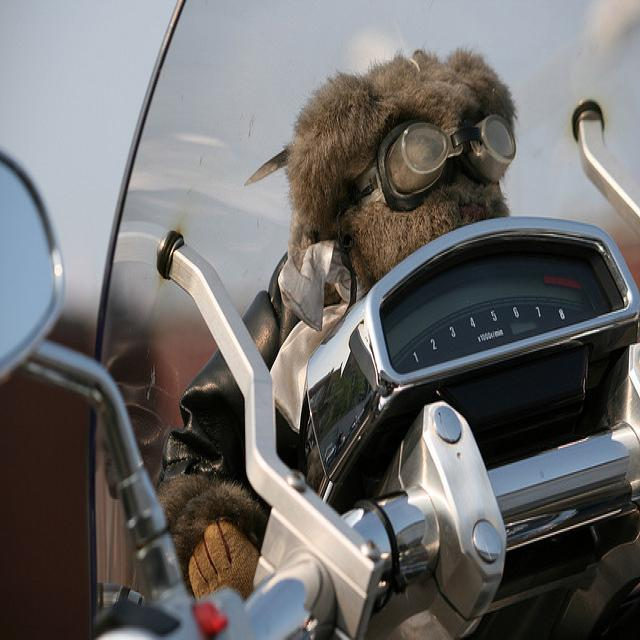motor: (0, 95, 640, 632)
